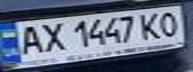1: (66, 17, 90, 48)
4: (87, 16, 109, 47), (103, 15, 124, 45)
7: (118, 12, 139, 43)
A: (12, 22, 48, 56)
K: (136, 10, 166, 40)
O: (154, 9, 184, 38)
X: (36, 19, 69, 53)
